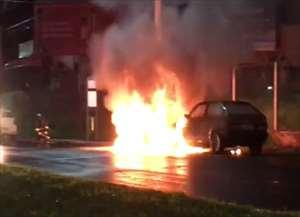fire: (115, 94, 183, 159)
smoke: (112, 23, 231, 68)
